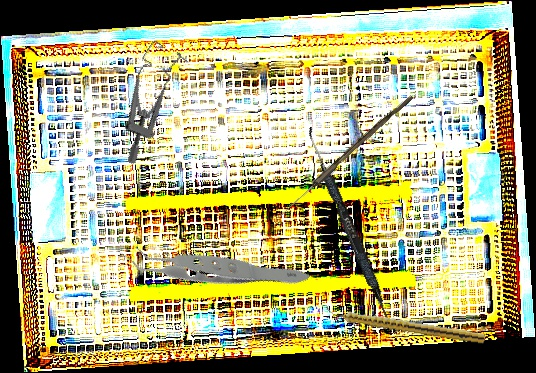Handpiece: (324, 305, 487, 345)
Spatula Surgical: (299, 126, 400, 329)
Speculum: (90, 36, 200, 167)
Surgical Spoon: (277, 92, 414, 220)
Tissue Forceps: (115, 173, 312, 355)
